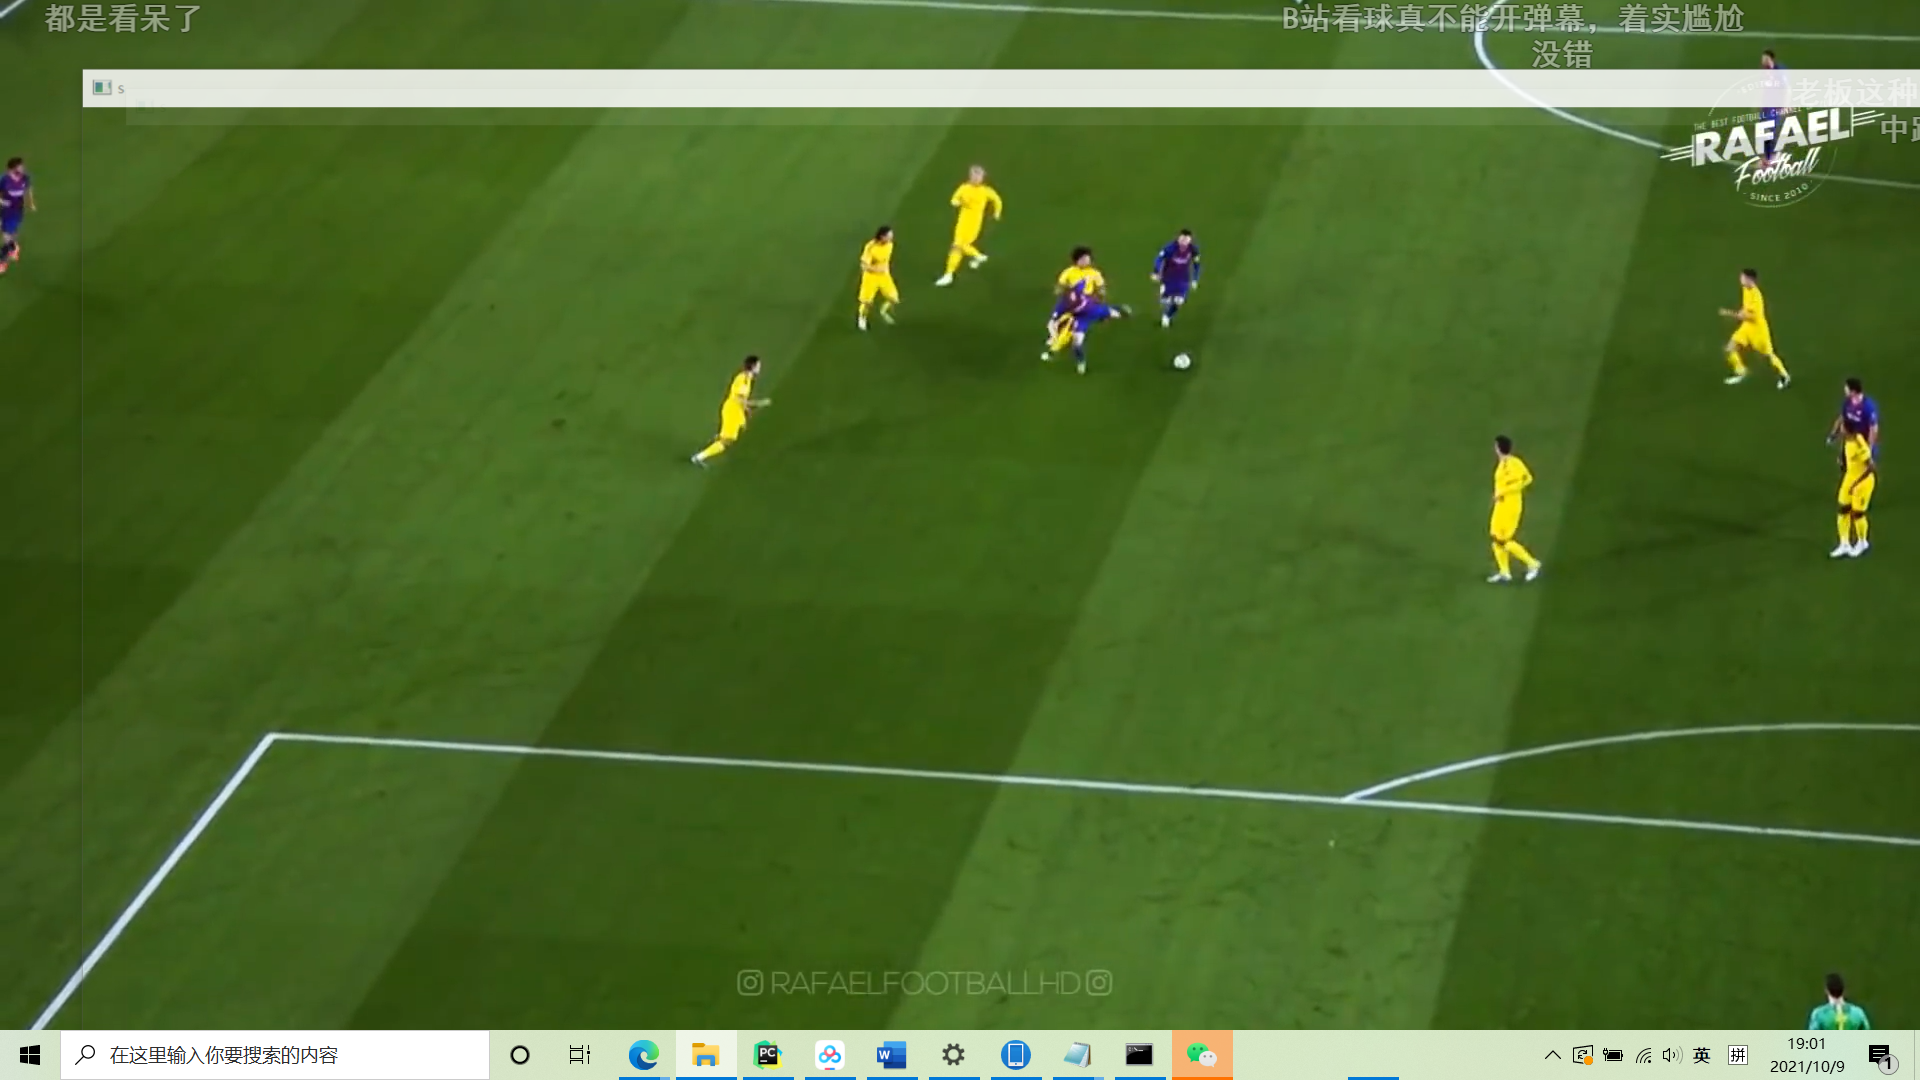ft: (1172, 352, 1195, 373)
